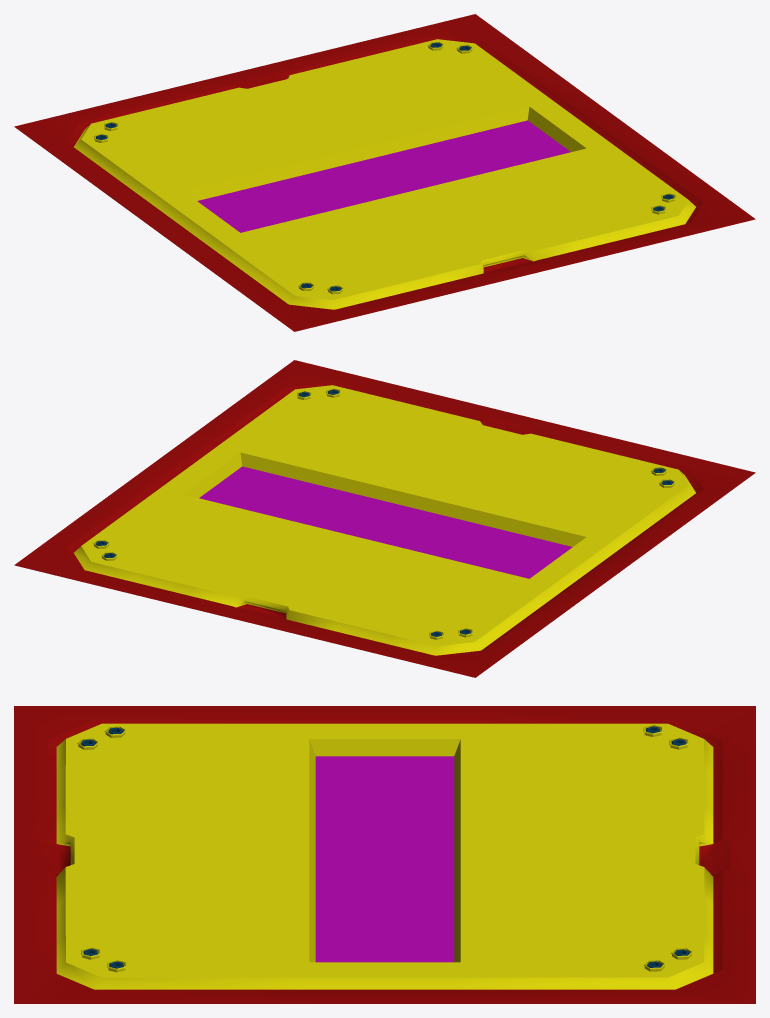
The model's file is Panel_Ceiling_Hi.FBX.
3 views of the same model, one above another, from view 1: azimuth 30°, elevation 25°; view 2: azimuth 150°, elevation 25°; view 3: azimuth 270°, elevation 25° (orthographic). The views are drawn at different scales.
Parts seen in each view (by area): view 1: Panel_Ceiling_High; view 2: Panel_Ceiling_High; view 3: Panel_Ceiling_High.
Boxes of the visible parts, x1,y1,x2,y2 form: Panel_Ceiling_High: [14, 14, 755, 331]; Panel_Ceiling_High: [14, 360, 755, 677]; Panel_Ceiling_High: [14, 706, 755, 1003].
Size of the model in its own units: 380 by 11.02 by 400.
